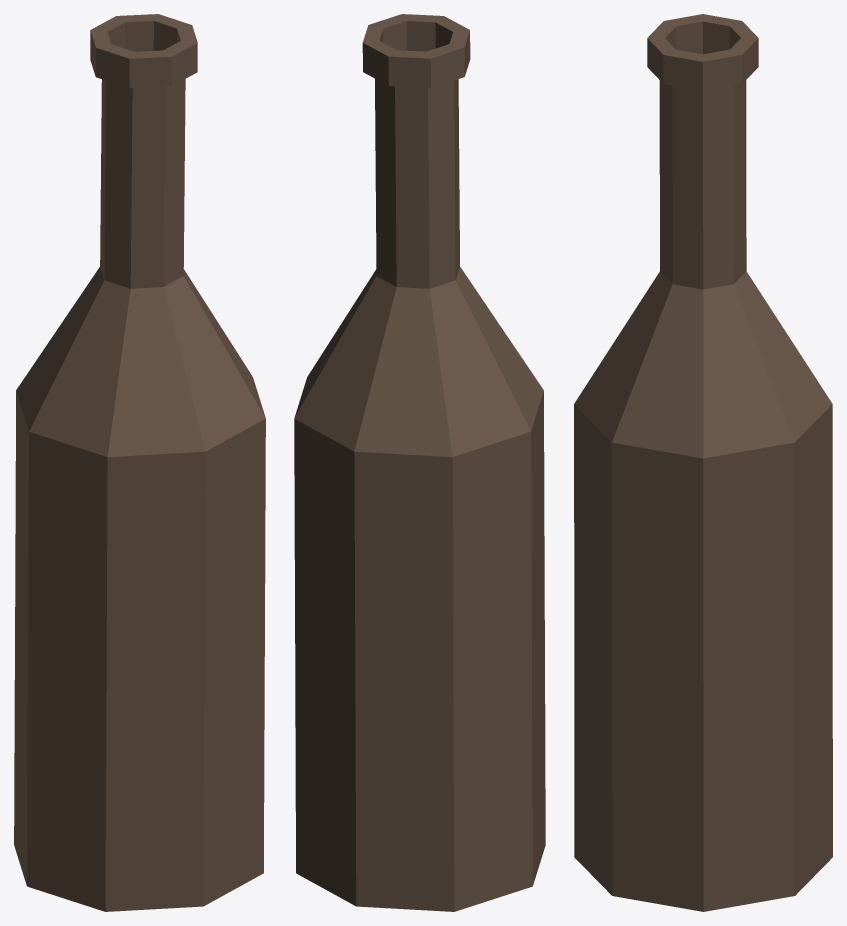
File: Living_Room_bottle2.fbx
The picture shows the model from 3 angles, left to right: view 1: azimuth 30°, elevation 25°; view 2: azimuth 150°, elevation 25°; view 3: azimuth 270°, elevation 25°; orthographic projection.
Parts seen in each view (by area): view 1: Living_Room_bottle2; view 2: Living_Room_bottle2; view 3: Living_Room_bottle2.
Part boxes in pixels (left/top/right/bottom): Living_Room_bottle2: left=14, top=14, right=265, bottom=911; Living_Room_bottle2: left=294, top=14, right=545, bottom=911; Living_Room_bottle2: left=574, top=14, right=832, bottom=911.
Size of the model in its own units: 12.69 by 44.15 by 12.59.
